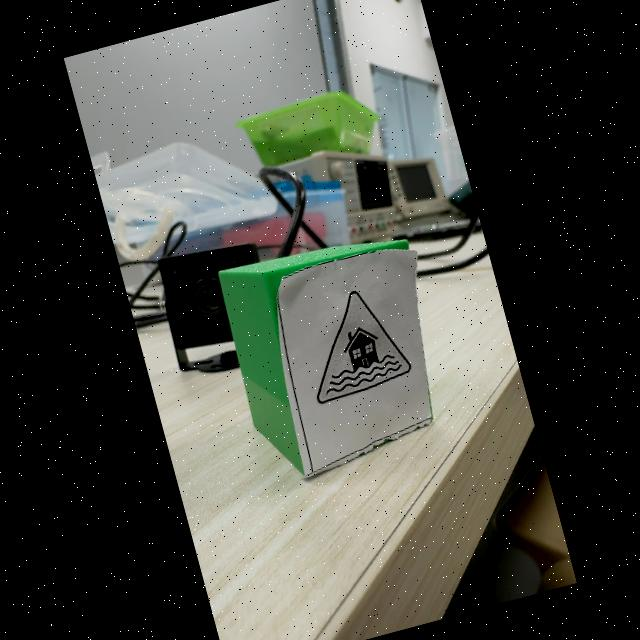Tsunami: (317, 292, 410, 403)
